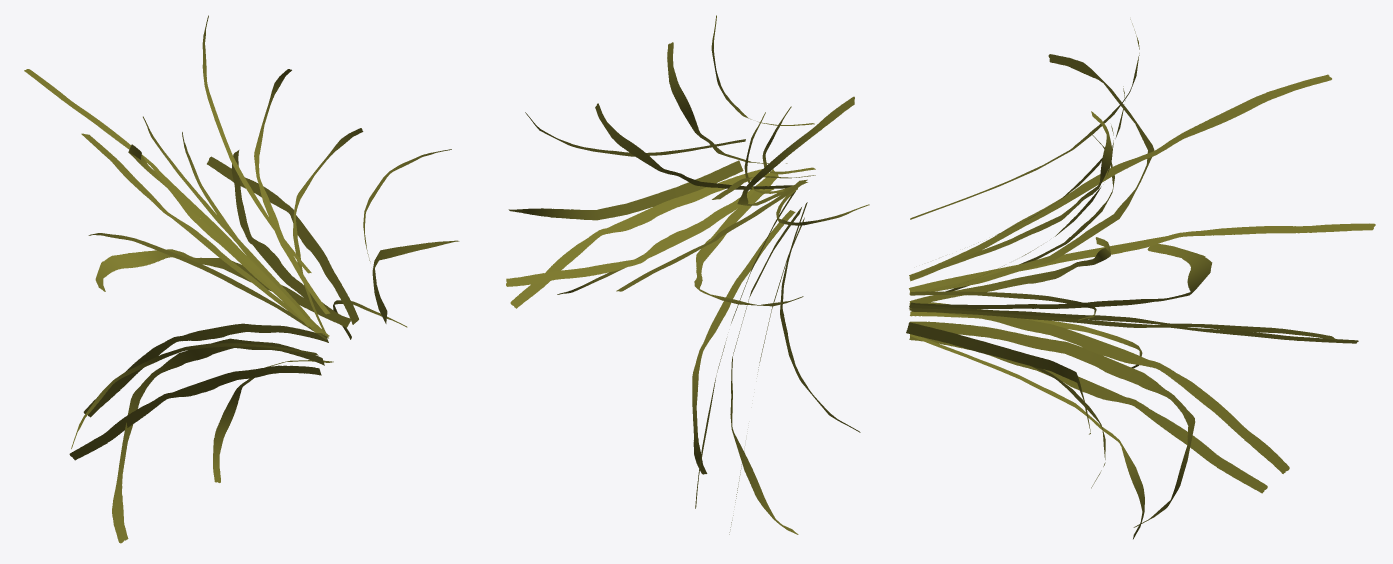
File: GrassBunch_A.fbx
3 views of the same model, side by side, from view 1: azimuth 30°, elevation 25°; view 2: azimuth 150°, elevation 25°; view 3: azimuth 270°, elevation 25° (orthographic). The views are drawn at different scales.
Parts seen in each view (by area): view 1: Material_v4, Material, Material_v2, Material_v3; view 2: Material, Material_v2, Material_v4, Material_v3; view 3: Material, Material_v4, Material_v2, Material_v3.
Part boxes in pixels (bbox=[...]): Material_v4: bbox=[24, 15, 350, 448]; Material: bbox=[81, 128, 459, 417]; Material_v2: bbox=[112, 150, 407, 543]; Material_v3: bbox=[69, 132, 451, 460]; Material: bbox=[508, 103, 869, 508]; Material_v2: bbox=[506, 176, 801, 534]; Material_v4: bbox=[667, 15, 860, 432]; Material_v3: bbox=[525, 96, 854, 534]; Material: bbox=[906, 135, 1375, 473]; Material_v4: bbox=[909, 19, 1331, 368]; Material_v2: bbox=[909, 304, 1336, 539]; Material_v3: bbox=[909, 54, 1267, 493].
Size of the model in its own units: 4.12 by 5.26 by 4.05.
